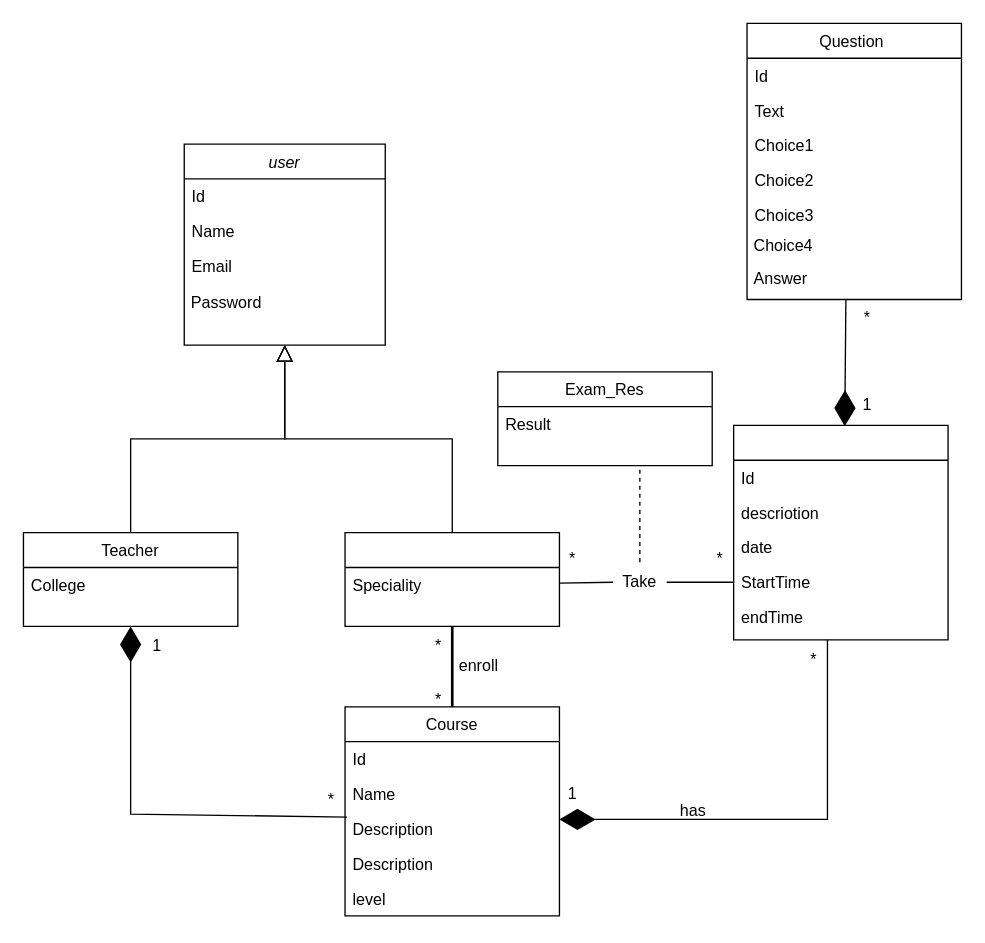
Some shapes in this 985 by 943 pixel diagram are drawn without their labels. The box of each missing label's shape, as (x1, y1, x2, y2) in pixels:
Exam: (732, 424, 948, 640)
Student: (344, 531, 559, 626)
